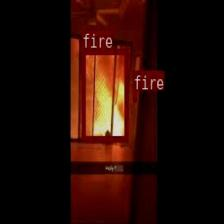fire: (81, 48, 128, 140), (132, 90, 136, 100)
